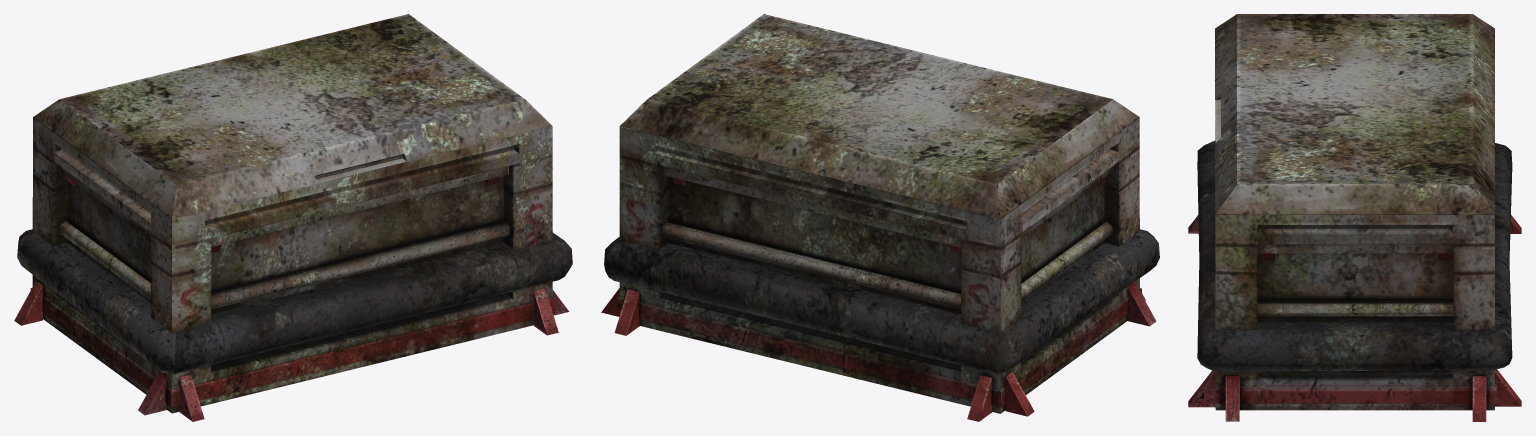
The model's file is crate_flesher_large_base.DAE.
3 renders of one model, left to right at view 1: azimuth 30°, elevation 25°; view 2: azimuth 150°, elevation 25°; view 3: azimuth 270°, elevation 25°, orthographic.
Visible parts, largest first — view 1: base, lid; view 2: base, lid; view 3: base, lid.
Part boxes in pixels (bbox=[...]): base: bbox=[14, 117, 572, 421]; lid: bbox=[33, 14, 552, 218]; base: bbox=[601, 118, 1159, 421]; lid: bbox=[620, 14, 1139, 219]; base: bbox=[1188, 99, 1521, 421]; lid: bbox=[1215, 14, 1494, 214].
Bounding box in the file's own units: 2.42 × 1.18 × 1.63.
